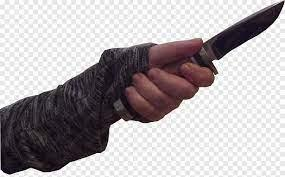Knife: (0, 38, 215, 173), (120, 38, 214, 124), (198, 0, 284, 68)
